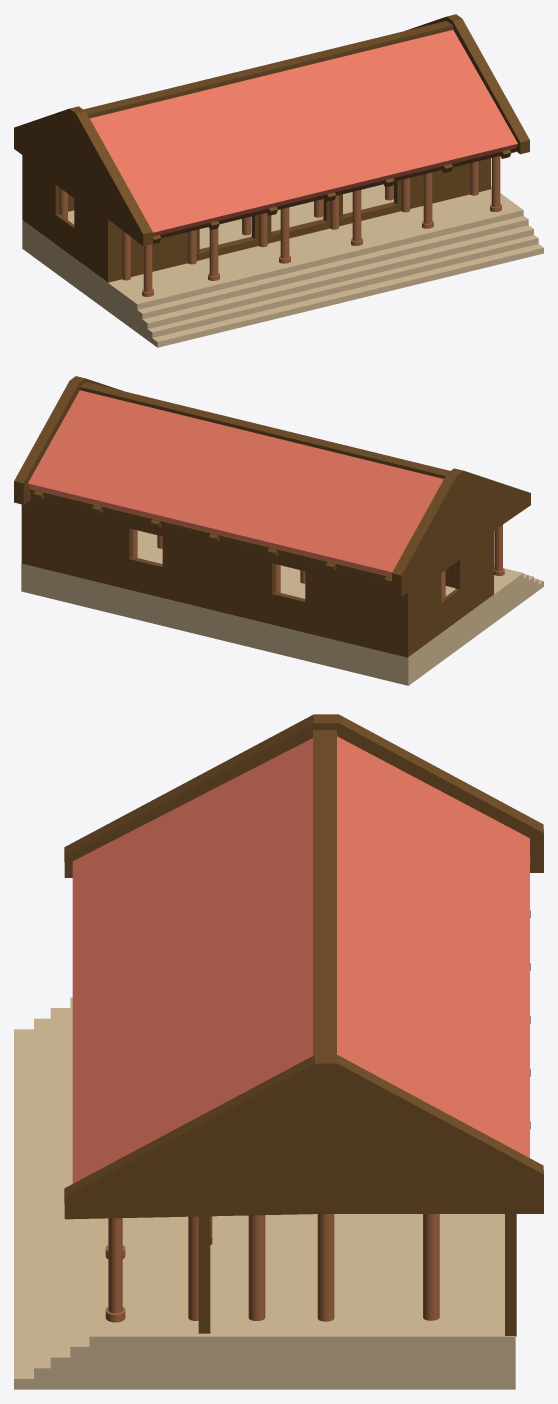
File: house5Labelled.fbx
3 views of the same model, one above another, from view 1: azimuth 30°, elevation 25°; view 2: azimuth 150°, elevation 25°; view 3: azimuth 270°, elevation 25° (orthographic). The views are drawn at different scales.
Visible parts, largest first — view 1: Roof5, Steps5, FrontHouse5, SideHouse5, Cylinder.094, Pillars15, Roofsupport, Pillars25; view 2: Roof5, Back5, Steps5, SideHouse5, Roofsupport, Cylinder.094; view 3: Roof5, Steps5, Pillars35, Pillars25, Pillars45, Cylinder.094, FrontHouse5, Back5, Pillars15.
Boxes of the visible parts, x1,y1,x2,y2 form: Roof5: (14,14,529,246); Steps5: (22,184,543,347); FrontHouse5: (111,158,490,281); SideHouse5: (22,155,111,282); Cylinder.094: (142,156,501,296); Pillars15: (122,161,478,280); Roofsupport: (152,148,516,244); Pillars25: (242,184,393,235); Roof5: (14,376,530,596); Back5: (21,493,407,657); Steps5: (21,530,543,685); SideHouse5: (407,531,493,657); Roofsupport: (29,488,391,584); Cylinder.094: (494,525,504,575); Roof5: (64,714,543,1219); Steps5: (14,997,515,1389); Pillars35: (317,1214,334,1321); Pillars25: (248,1215,265,1320); Pillars45: (423,1214,439,1320); Cylinder.094: (105,1218,125,1322); FrontHouse5: (198,1216,212,1333); Back5: (505,1214,516,1336); Pillars15: (188,1216,198,1320).
Bounding box in the file's own units: 906 × 1417 × 614.
